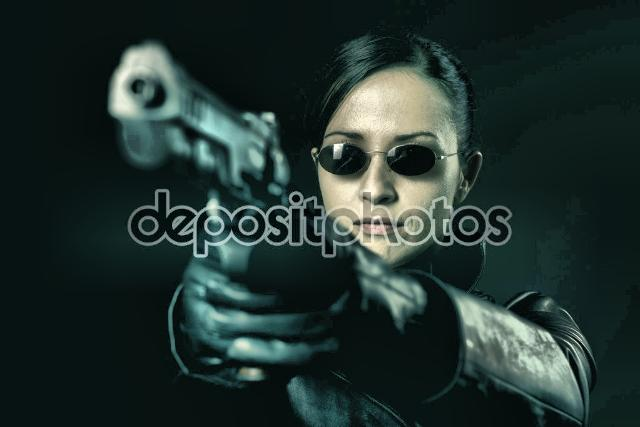pistol: (107, 49, 311, 363)
